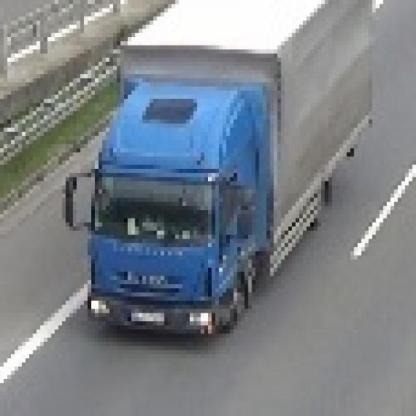truck: (70, 1, 377, 339)
